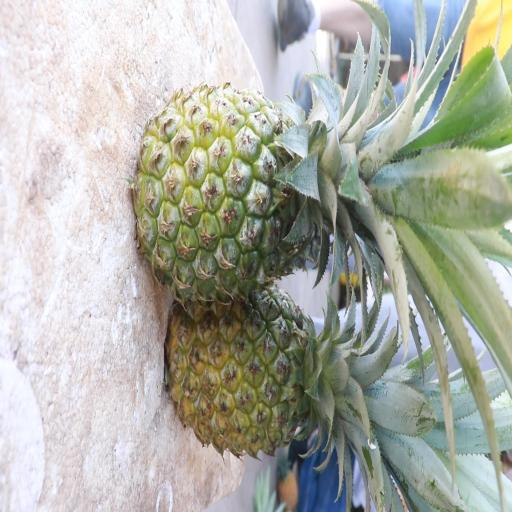------------------------------: (144, 83, 362, 287)
Pineapple - v8 v1: (167, 285, 365, 449)
